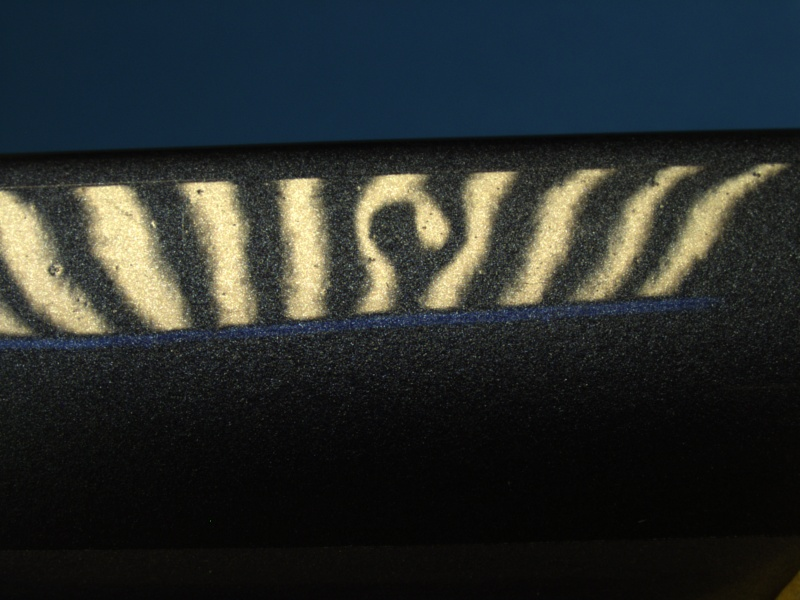bad: (355, 184, 474, 278), (39, 254, 70, 284)
